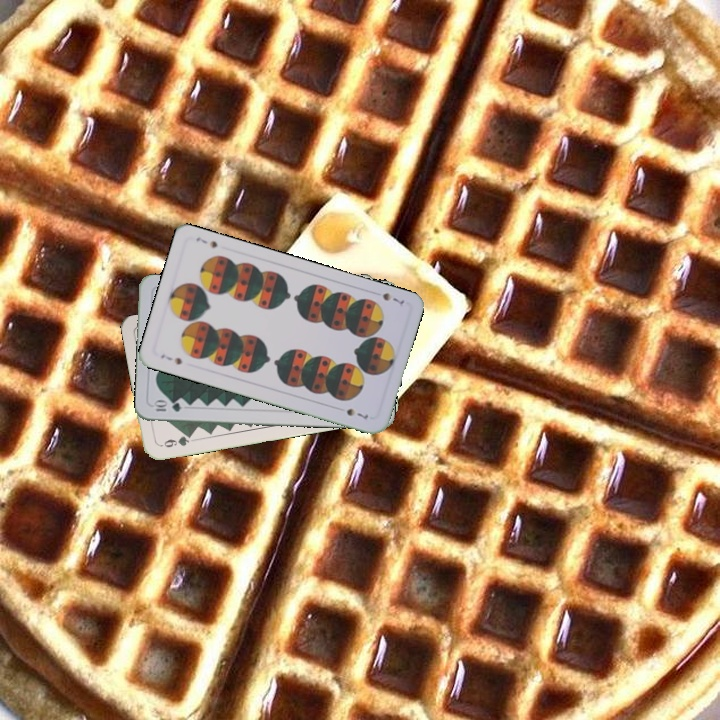G10: (150, 398, 184, 414)
G9: (156, 430, 195, 450)
S7: (378, 288, 407, 308), (157, 350, 184, 367)
